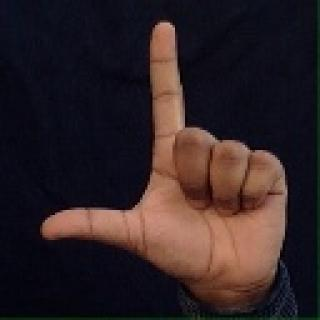L: (49, 7, 299, 298)
